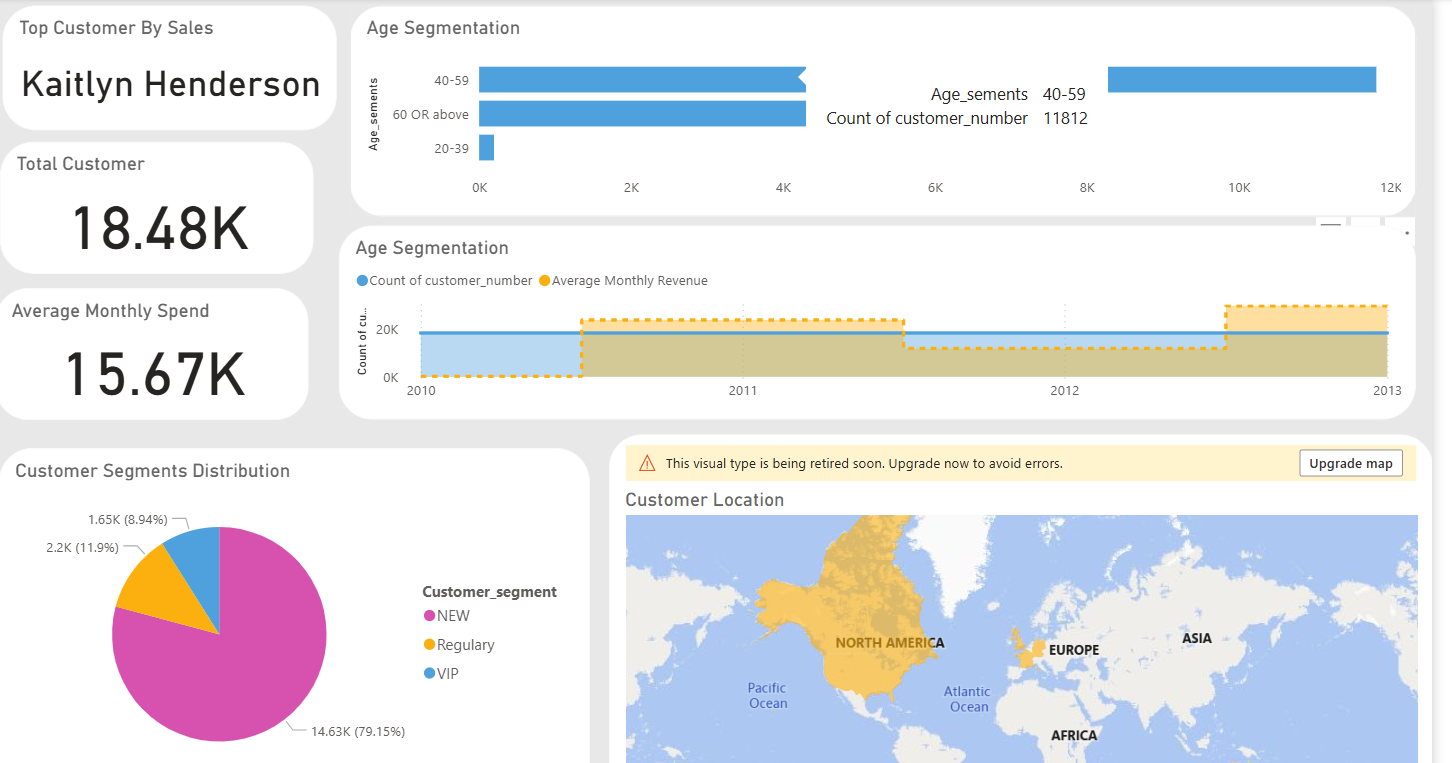

Layout of this report page (visuals, bound fields, positions):
{"tool":"powerbi","page":{"name":"Customer_View","canvas":[1280,720],"ordinal":1},"visuals":[{"type":"pieChart","title":"Customer Segments Distribution","fields":{"Category":["gold customer_report.Customer_segment"],"Y":["CountNonNull(gold customer_report.customer_number)"]},"box":[3.7,400.4,526.4,310.2],"z":0},{"type":"clusteredBarChart","title":"Age Segmentation","fields":{"Category":["gold customer_report.Age_sements"],"Y":["CountNonNull(gold customer_report.customer_number)"]},"box":[316.1,6.7,949.5,188.1],"z":1000},{"type":"card","title":"Top Customer By Sales","fields":{"Values":["Min(gold customer_report.full_name)"]},"box":[6.2,6.2,297.8,111.2],"z":2000},{"type":"filledMap","title":"Customer Location","fields":{"Category":["gold dim_customer.country"],"Y":["CountNonNull(gold dim_customer.customer_number)"]},"box":[546.2,388,734,332.4],"z":3000},{"type":"card","title":"Total Customer","fields":{"Values":["CountNonNull(gold customer_report.customer_number)"]},"box":[4.9,128.5,279.3,117.4],"z":4000},{"type":"card","title":"Average Monthly Spend","fields":{"Values":["gold fact_sales.Average Monthly Revenue"]},"box":[0,258.3,279.3,117.4],"z":5000},{"type":"areaChart","title":"Age Segmentation","fields":{"Y":["CountNonNull(gold customer_report.customer_number)","gold fact_sales.Average Monthly Revenue"],"Category":["gold fact_sales.order_date.Variation.Date Hierarchy.Year"]},"box":[306.1,202.6,959.6,172.5],"z":6000}]}

Visuals, with their boxes on the page's 1280x720 design canvas (x1, y1, x2, y2). These are canvas units, not pixel positions in the 1452x763 screenshot, which may show the page scaled, cropped or inside an application window:
"Customer Segments Distribution" pieChart: <box>4,400,530,711</box>
"Age Segmentation" clusteredBarChart: <box>316,7,1266,195</box>
"Top Customer By Sales" card: <box>6,6,304,117</box>
"Customer Location" filledMap: <box>546,388,1280,720</box>
"Total Customer" card: <box>5,128,284,246</box>
"Average Monthly Spend" card: <box>0,258,279,376</box>
"Age Segmentation" areaChart: <box>306,203,1266,375</box>
